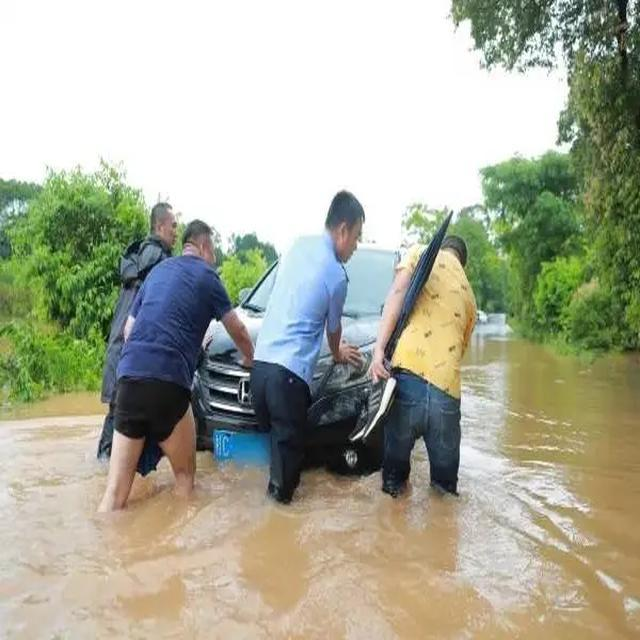Person-RiskLevel2: (85, 216, 260, 523), (256, 189, 370, 512), (371, 201, 486, 500), (96, 202, 177, 471)
